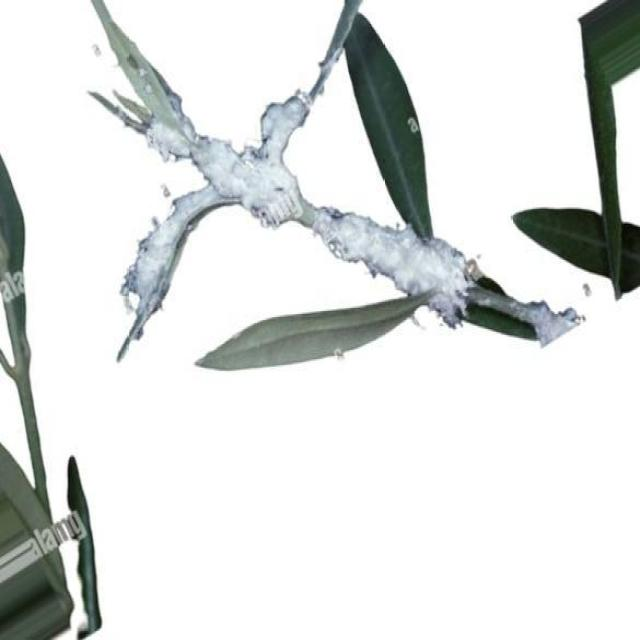Psyllid: (123, 66, 472, 343)
